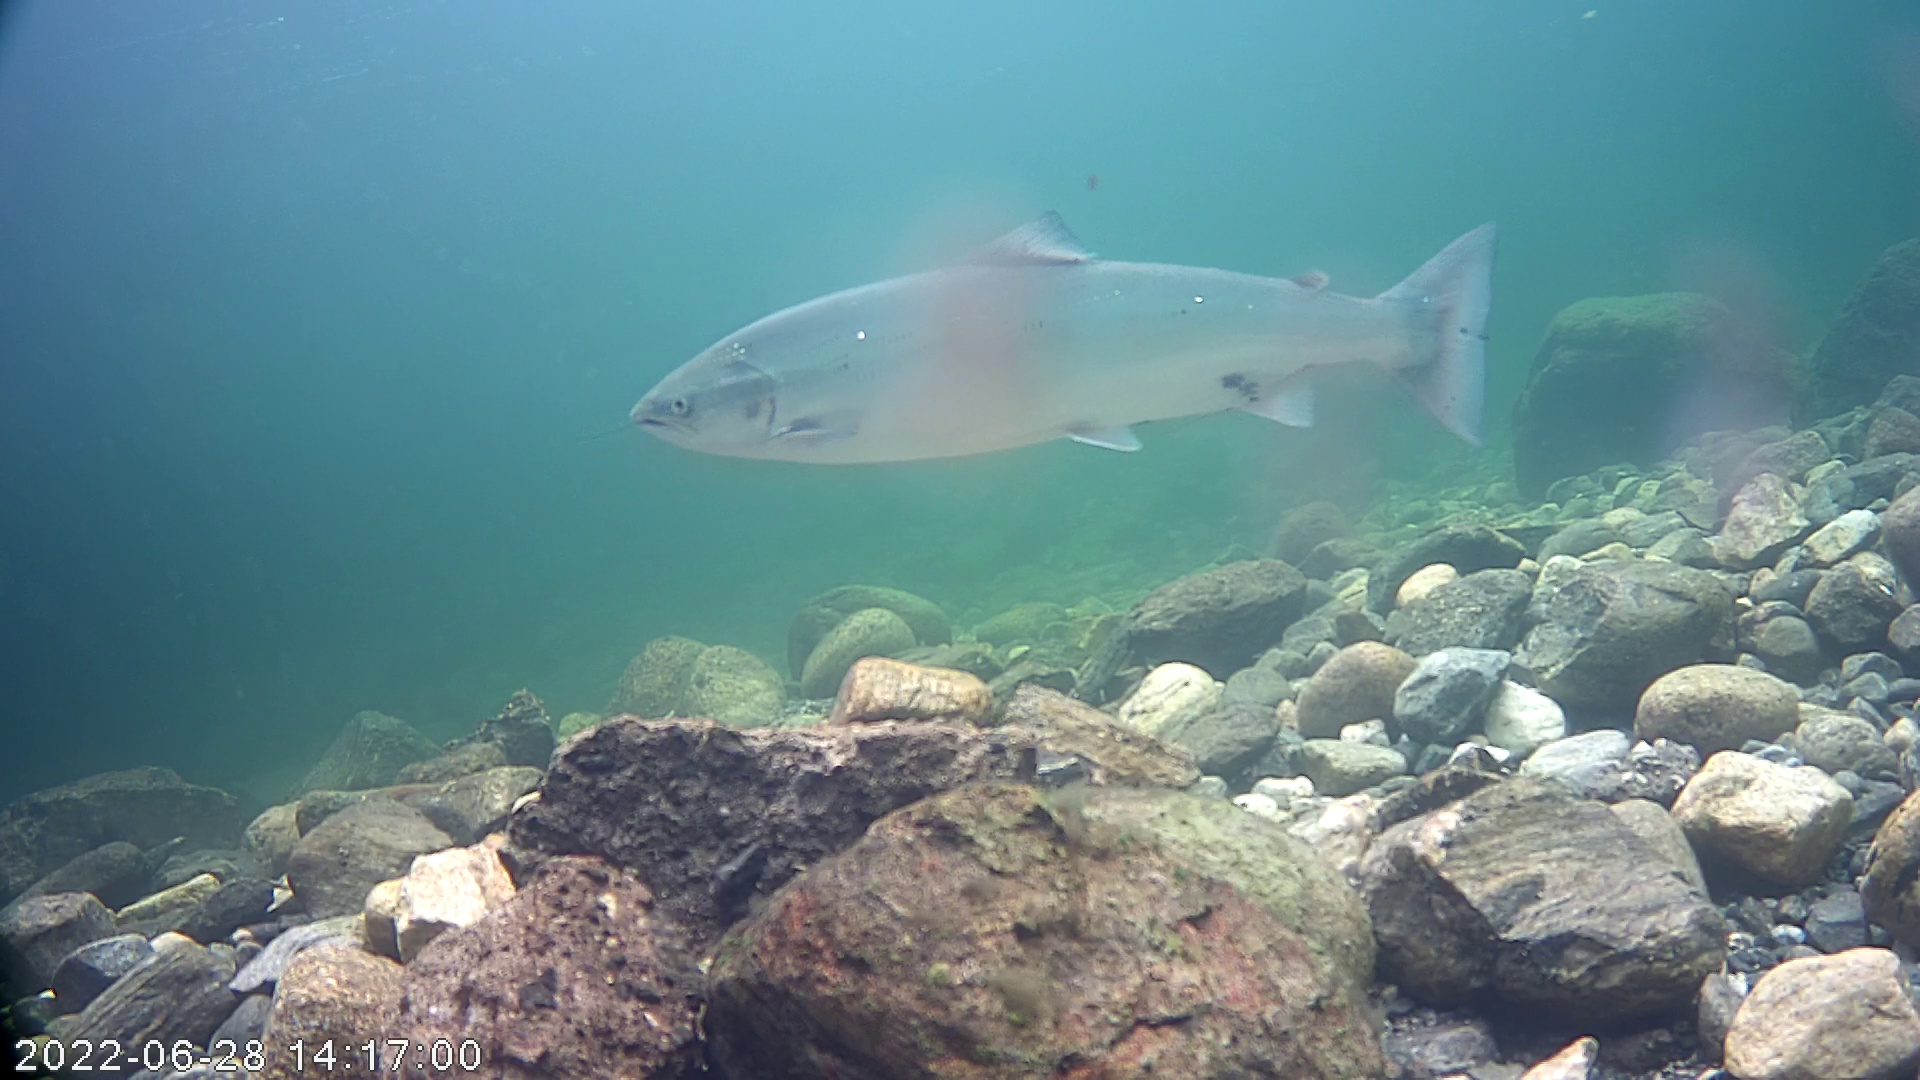salmon: (608, 117, 1524, 556)
